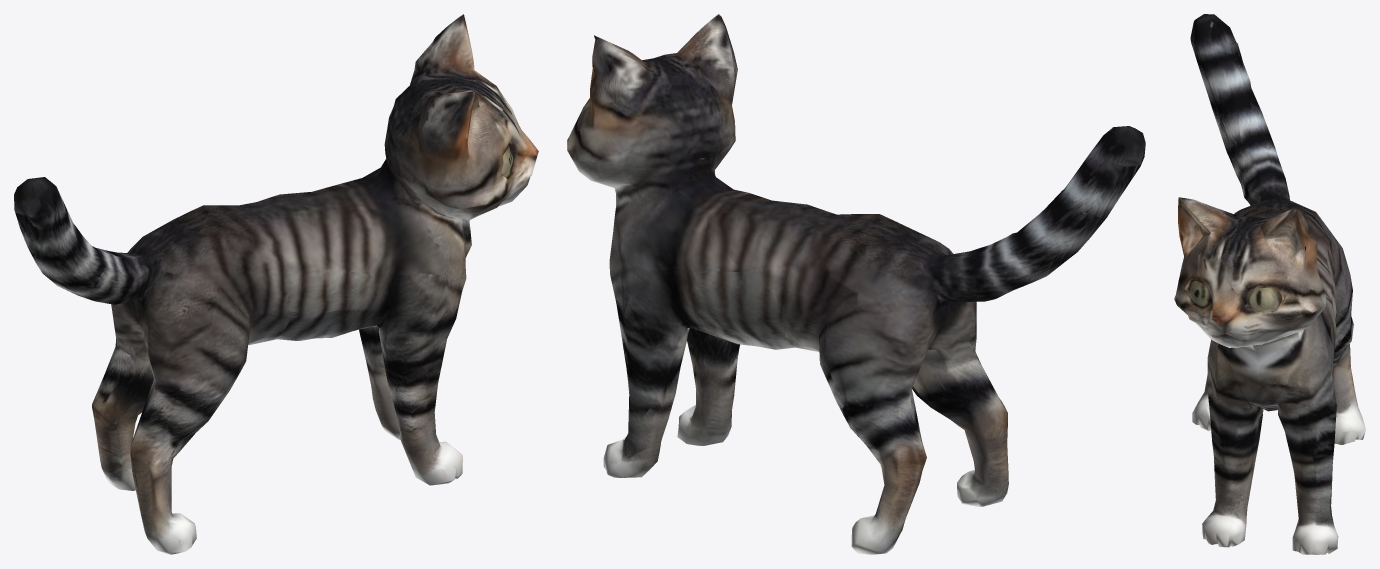
File: SOCKFOOT-lo.glb
The picture shows the model from 3 angles, left to right: view 1: azimuth 30°, elevation 25°; view 2: azimuth 150°, elevation 25°; view 3: azimuth 270°, elevation 25°; orthographic projection. The views are drawn at different scales.
Parts seen in each view (by area): view 1: fit; view 2: fit; view 3: fit.
Part boxes in pixels (box(x1,y1,x2,y2)): fit: box(14, 14, 538, 554); fit: box(567, 14, 1145, 554); fit: box(1174, 14, 1365, 554).
Size of the model in its own units: 1.34 by 0.9998 by 0.4823.
Materials: 1 (1 with a texture image).
